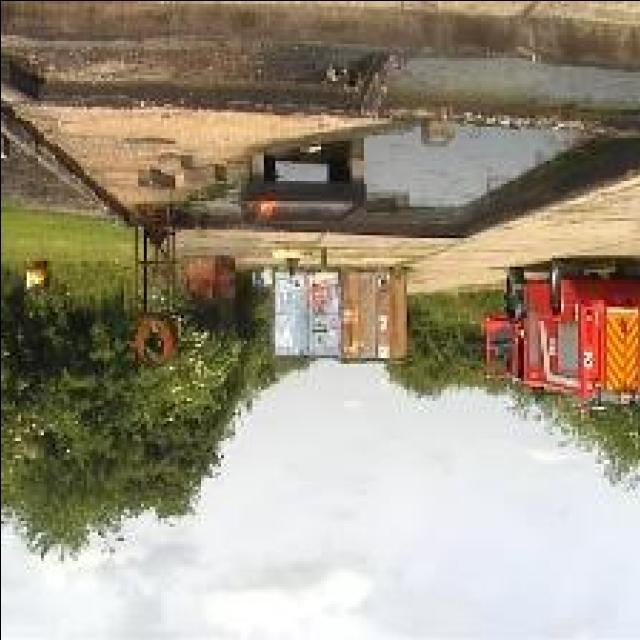Fire: (252, 200, 282, 217)
